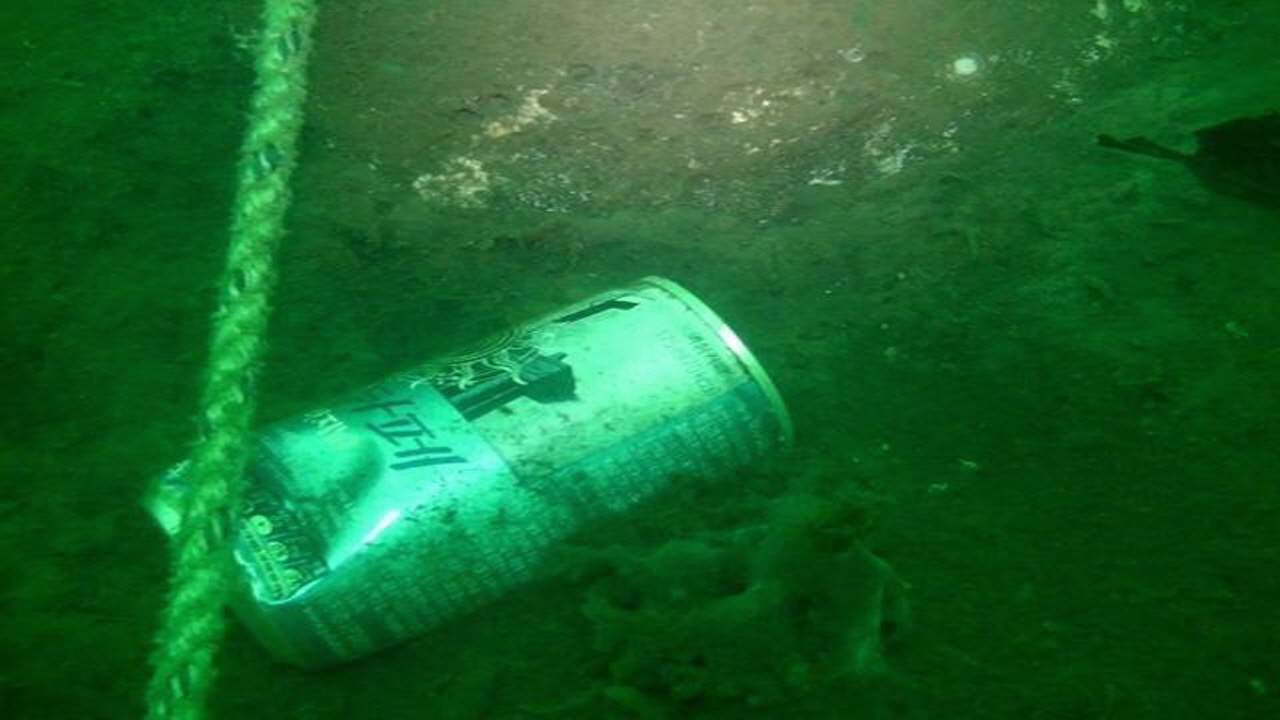rope: (143, 0, 322, 720)
